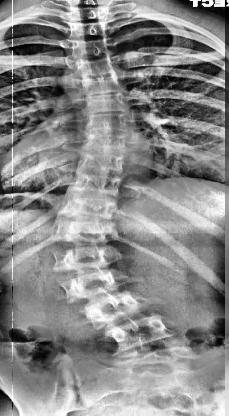Vertebrae: (63, 270, 127, 300), (111, 320, 177, 347), (50, 245, 124, 269), (87, 294, 148, 322), (52, 220, 119, 244), (60, 194, 120, 219), (80, 113, 133, 137), (78, 135, 132, 157), (70, 173, 122, 195), (84, 92, 132, 114), (72, 155, 130, 173), (70, 40, 118, 57), (82, 76, 124, 94), (77, 59, 119, 77), (68, 22, 112, 38), (70, 7, 110, 21)
